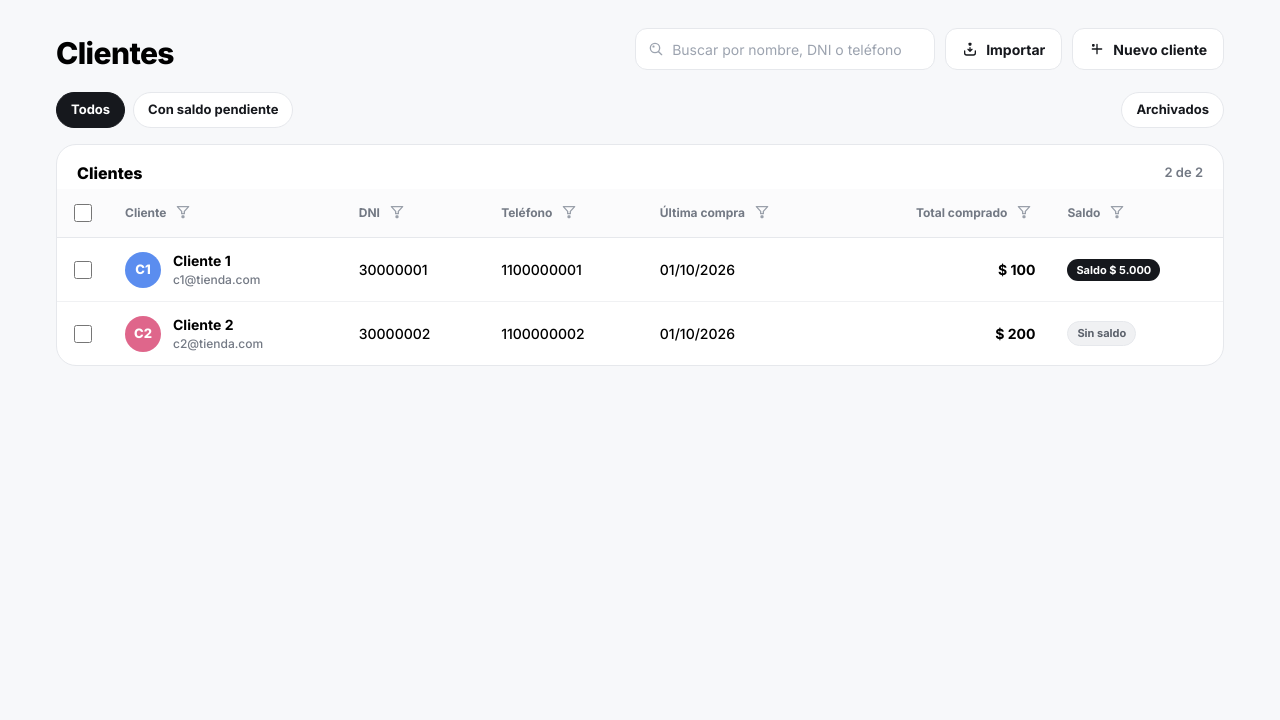
Test: Client purchase totals › filters by purchases rather than the legacy total
The width and height of the screenshot is (1280, 720).
Click the button named "Filtrar gastado" at (1024, 212), box [1013, 201, 1035, 223]
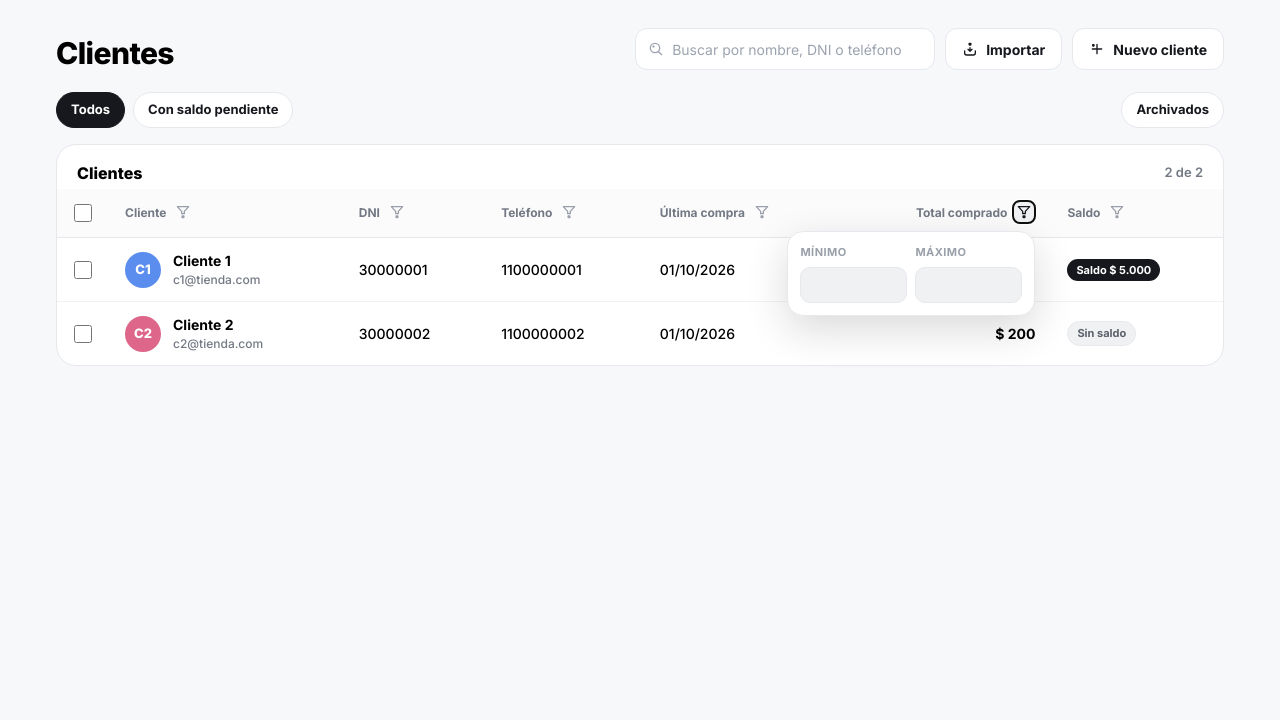
Type "150" into the field labelled "Mínimo" at (854, 284), box [800, 266, 907, 302]
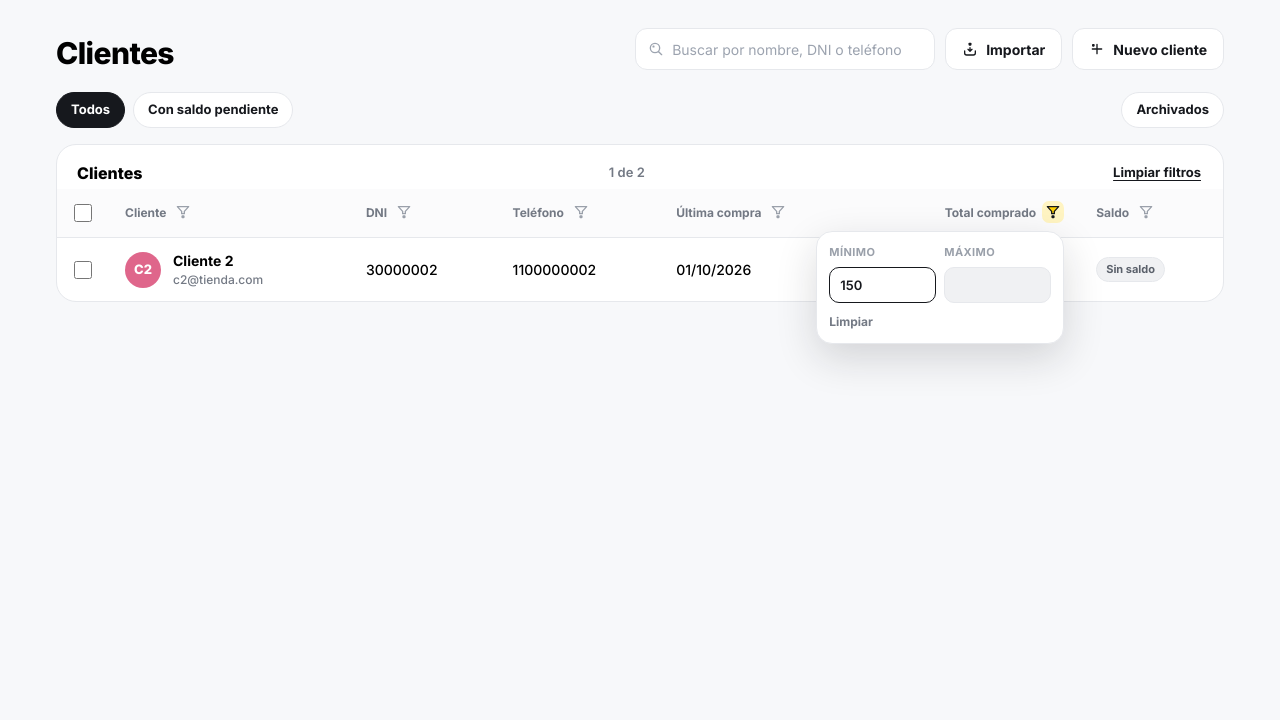
Expected: the row with test id "client-row-2" is shown, [57, 238, 1223, 301]
Now the row with test id "client-row-1" is gone
